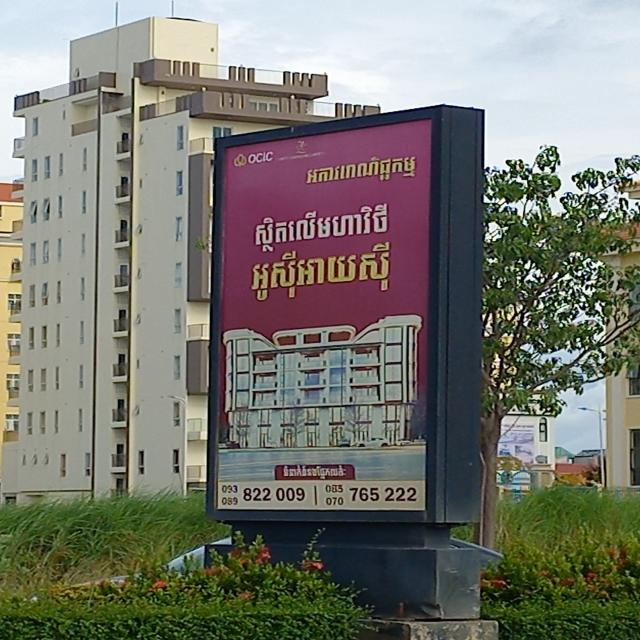364: (325, 497, 345, 505)
399: (324, 484, 344, 493)
423: (221, 497, 240, 506)
445: (221, 485, 238, 493)
835: (349, 486, 419, 501)
848: (243, 487, 307, 501)
Yolov11_80vkh: (242, 241, 394, 305), (251, 200, 394, 252), (303, 146, 422, 188), (280, 463, 353, 480)
